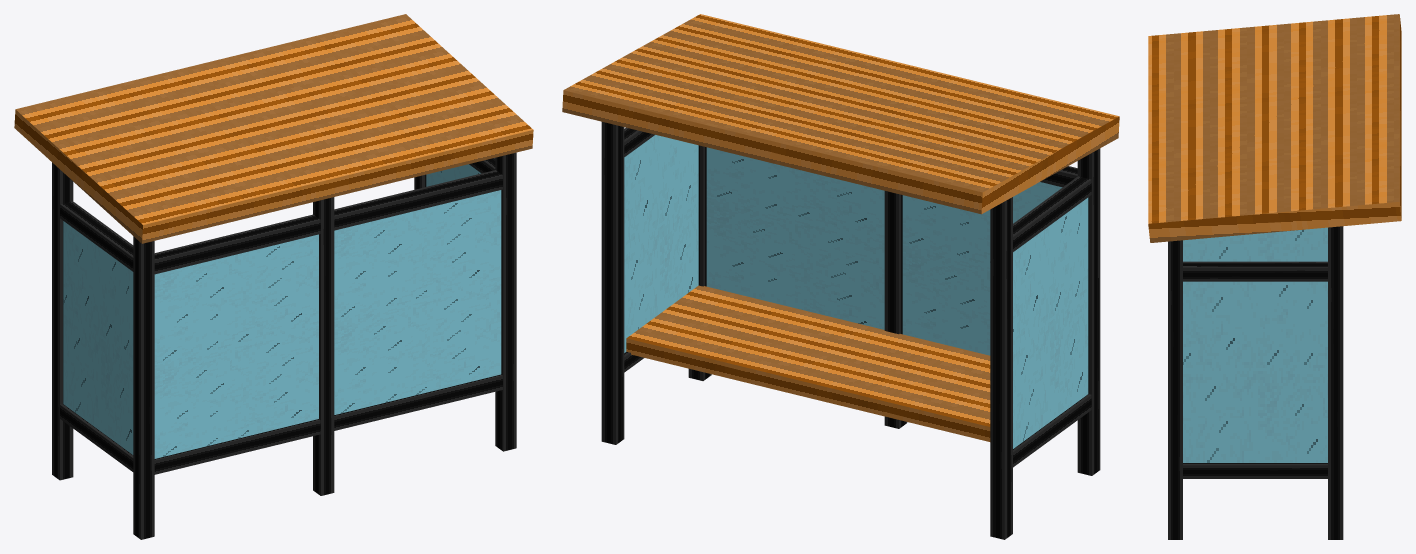
File: BGN_BUS STATION.fbx
3 renders of one model, left to right at view 1: azimuth 30°, elevation 25°; view 2: azimuth 150°, elevation 25°; view 3: azimuth 270°, elevation 25°, orthographic. The views are drawn at different scales.
Parts seen in each view (by area): view 1: BGN_BUS_STATION; view 2: BGN_BUS_STATION; view 3: BGN_BUS_STATION.
Boxes of the visible parts, box(x1,y1,x2,y2) form: BGN_BUS_STATION: box(14, 14, 533, 539); BGN_BUS_STATION: box(562, 14, 1119, 539); BGN_BUS_STATION: box(1148, 14, 1401, 539).
Bounding box in the file's own units: 275 × 233 × 157.
